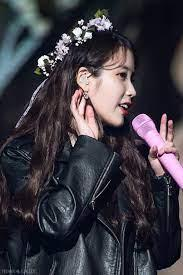earphone: (77, 76, 91, 88)
